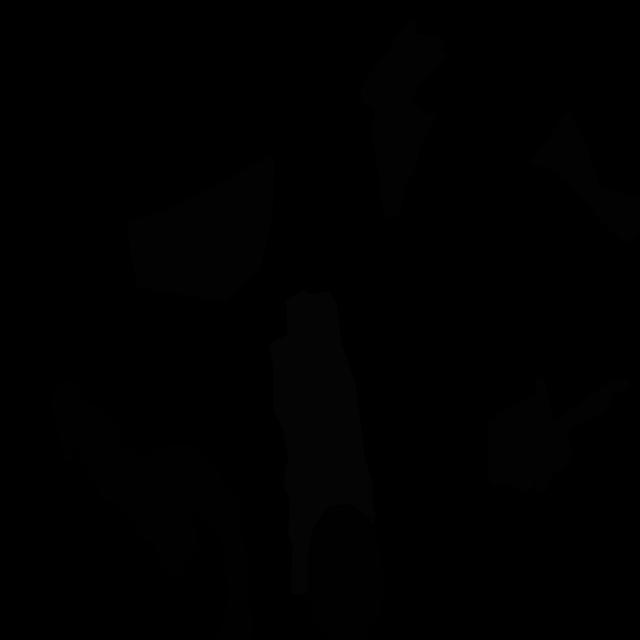cardboard: (126, 154, 275, 302), (360, 17, 448, 219), (488, 375, 630, 493), (528, 110, 640, 244)
rigid_plastic: (50, 380, 254, 640), (308, 504, 383, 640)
soft_plastic: (268, 290, 376, 595)
